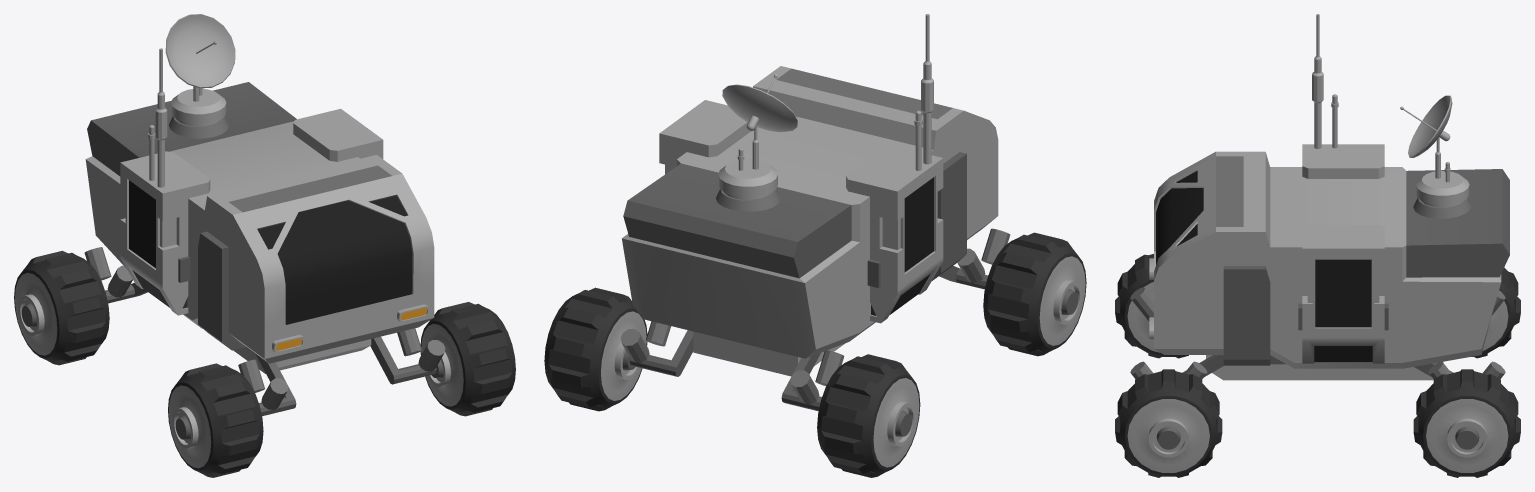
Rendered from Rover 1.glb.
3 views of the same model, side by side, from view 1: azimuth 30°, elevation 25°; view 2: azimuth 150°, elevation 25°; view 3: azimuth 270°, elevation 25° (orthographic). The views are drawn at different scales.
Visible parts, largest first — view 1: Rover_1, Wheel_2, Wheel_4, Wheel_3; view 2: Rover_1, Wheel_2, Wheel_4, Wheel_1; view 3: Rover_1, Wheel_1, Wheel_3, Wheel_2, Wheel_4.
Part boxes in pixels (bbox=[...]): Rover_1: bbox=[84, 14, 445, 416]; Wheel_2: bbox=[168, 363, 263, 477]; Wheel_4: bbox=[14, 250, 109, 365]; Wheel_3: bbox=[420, 302, 515, 416]; Rover_1: bbox=[620, 14, 1010, 411]; Wheel_2: bbox=[983, 232, 1086, 356]; Wheel_4: bbox=[817, 354, 920, 477]; Wheel_1: bbox=[544, 287, 647, 411]; Rover_1: bbox=[1130, 14, 1509, 380]; Wheel_1: bbox=[1413, 369, 1520, 477]; Wheel_3: bbox=[1115, 369, 1222, 477]; Wheel_2: bbox=[1115, 254, 1188, 358]; Wheel_4: bbox=[1471, 267, 1520, 358].
Size of the model in its own units: 4.58 by 4.88 by 5.16.
1 material, 1 textured.
